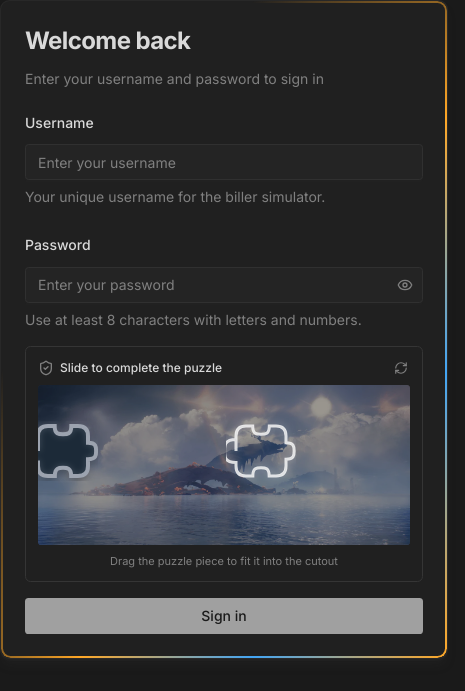
Test case: LoginForm › form validation › should show validation error for empty username
Click the button "Sign in". click: (224, 616)
box: [25,598,423,634]
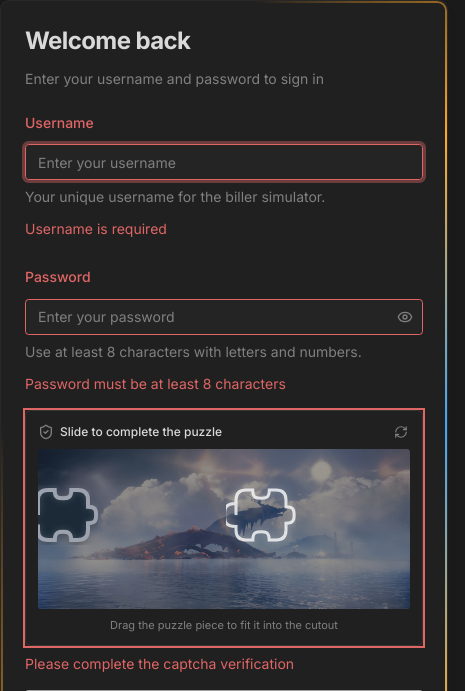
Check: the text "Username is required" is shown, box [25,220,167,237]
